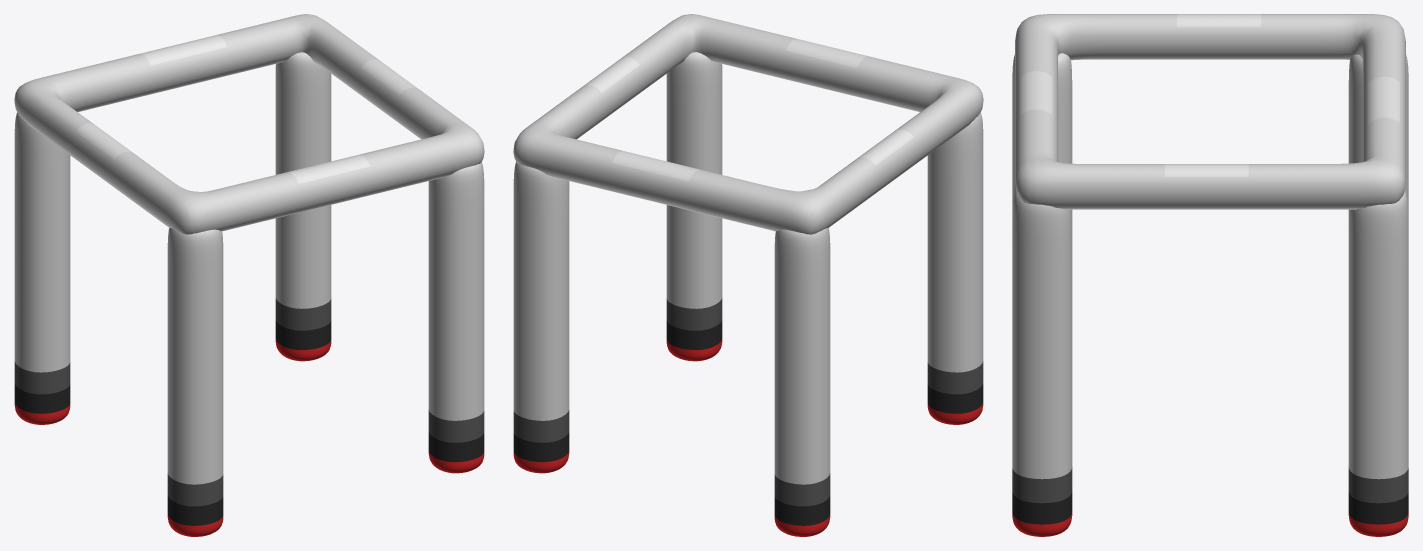
Rendered from pneumatic_well.fbx.
The picture shows the model from 3 angles, left to right: view 1: azimuth 30°, elevation 25°; view 2: azimuth 150°, elevation 25°; view 3: azimuth 270°, elevation 25°; orthographic projection. The views are drawn at different scales.
Visible parts, largest first — view 1: колонны, верхушка; view 2: колонны, верхушка; view 3: колонны, верхушка.
Part boxes in pixels (x1,y1,x2,y2): колонны: [14, 52, 484, 536]; верхушка: [14, 14, 484, 234]; колонны: [513, 52, 983, 536]; верхушка: [513, 14, 983, 234]; колонны: [1012, 53, 1408, 536]; верхушка: [1015, 14, 1405, 209].
Size of the model in its own units: 1396 by 1459 by 1414.
